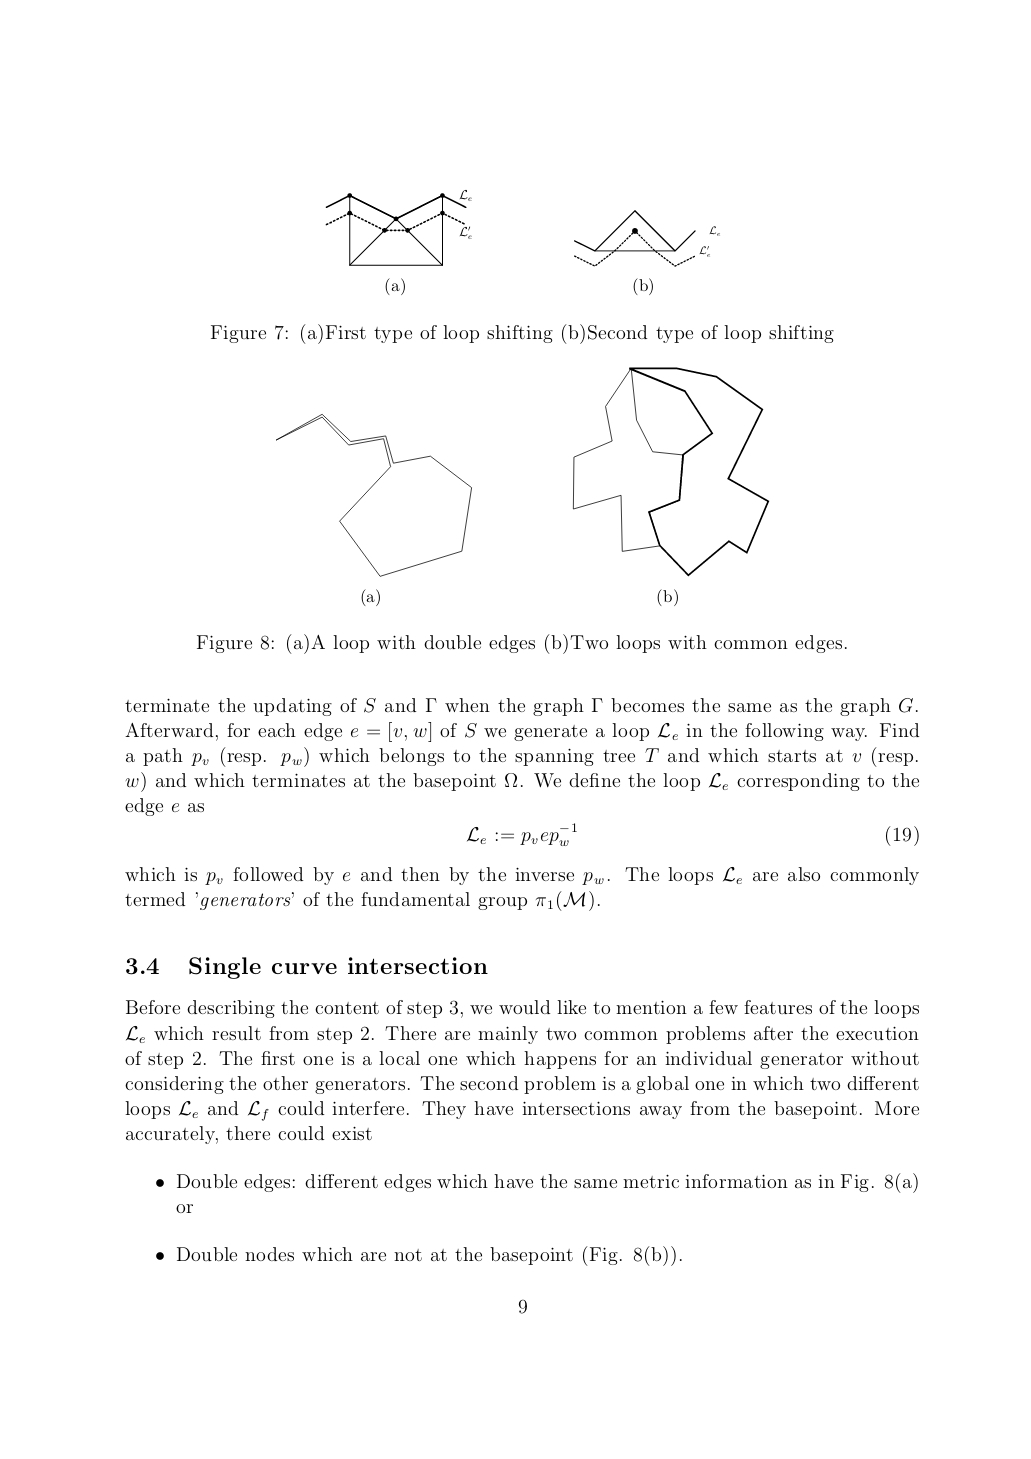figure: (572, 365, 769, 577), (276, 412, 471, 577), (325, 189, 471, 265), (574, 210, 719, 265)
formula: (466, 822, 918, 847)
